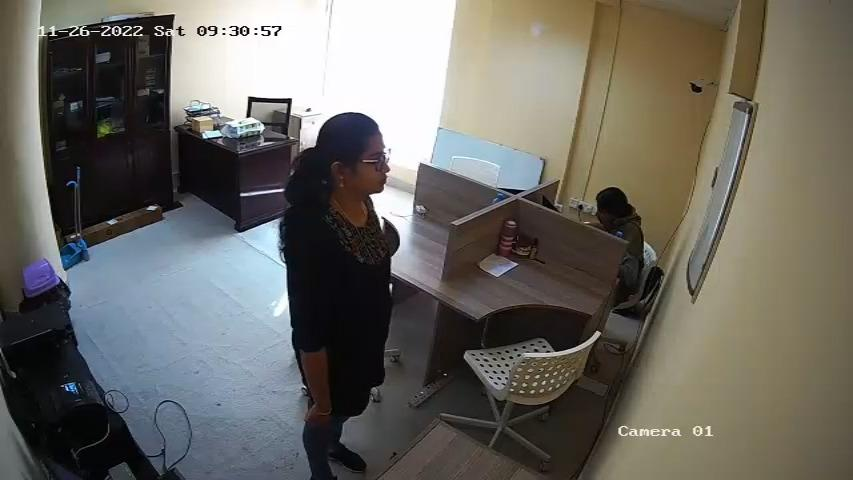no_apron: (320, 204, 393, 355)
